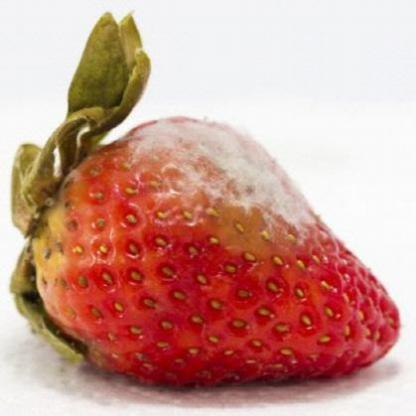Strawberry_Powdery_Mildew_Fruit: (106, 115, 346, 266)
